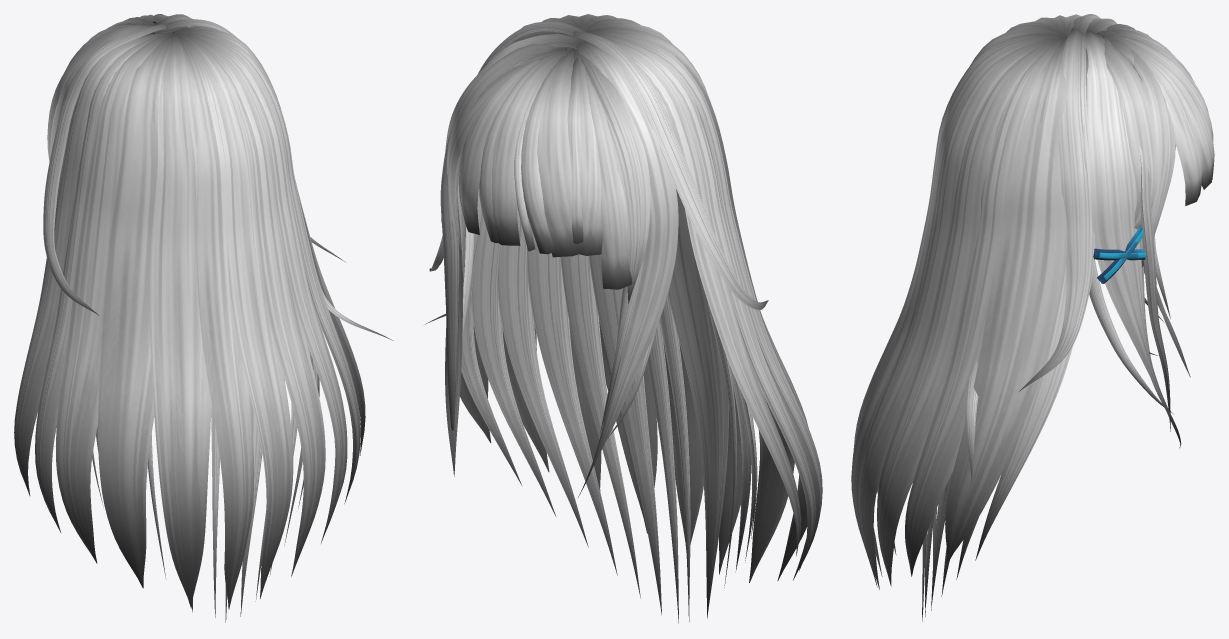
File: hair4.glb
3 views of the same model, side by side, from view 1: azimuth 30°, elevation 25°; view 2: azimuth 150°, elevation 25°; view 3: azimuth 270°, elevation 25° (orthographic). The views are drawn at different scales.
Parts seen in each view (by area): view 1: Hair; view 2: Hair; view 3: Hair.
Boxes of the visible parts, left/top/right/bottom form: Hair: left=14, top=14, right=393, bottom=622; Hair: left=425, top=14, right=822, bottom=623; Hair: left=851, top=14, right=1214, bottom=621.
Bounding box in the file's own units: 0.3766 × 0.5702 × 0.313.
2 materials, 2 textured.
